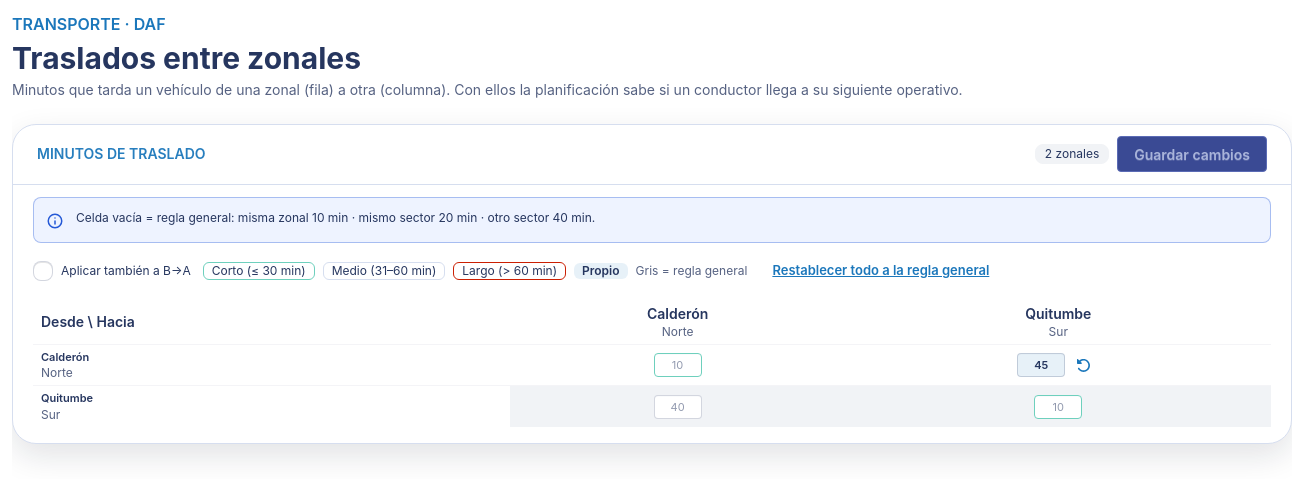
Test: Traslados entre zonales › «Aplicar también a B→A» copia el valor en la celda simétrica (2026-10-06)
The image size is (1292, 479).
Expected: the text "misma zonal 10 min" is shown, [76,210,595,225]
Click the checkbox labelled "Aplicar también a B→A". click: x=43, y=271
box: [33,261,53,281]
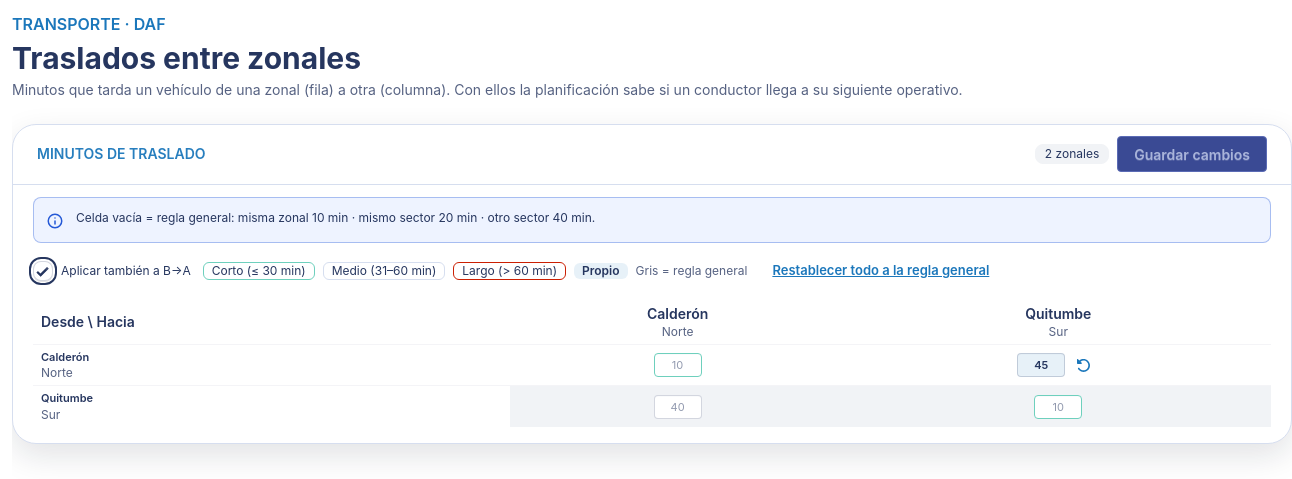
Clear the field named "Minutos de Calderón a Quitumbe". click: x=1041, y=365
box: [1017,353,1065,377]
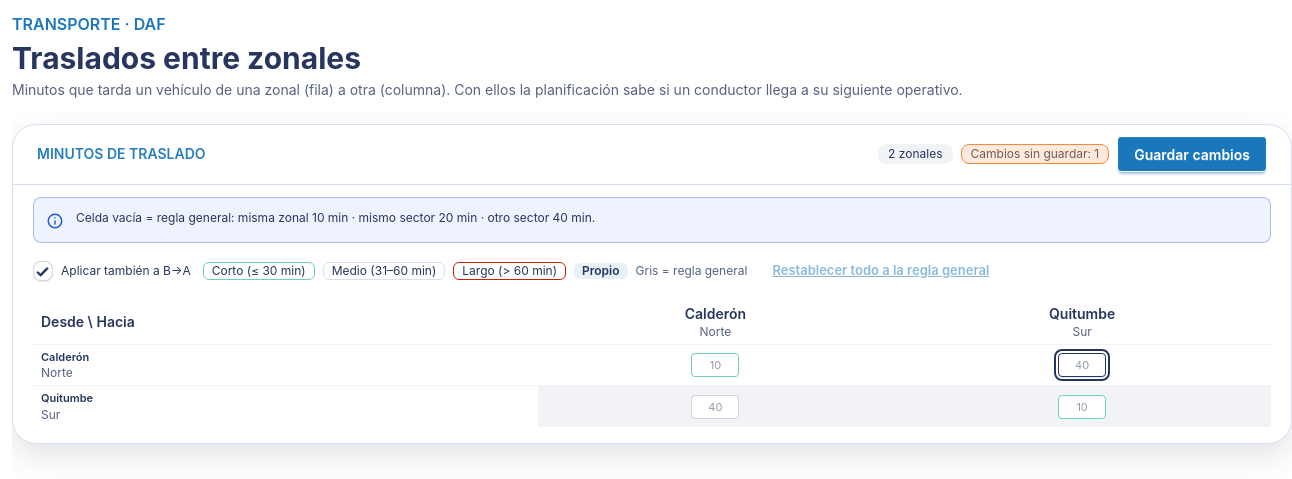
Type "35" into the 1st field with placeholder "40". click: x=1082, y=365
box: [1058,353,1106,377]
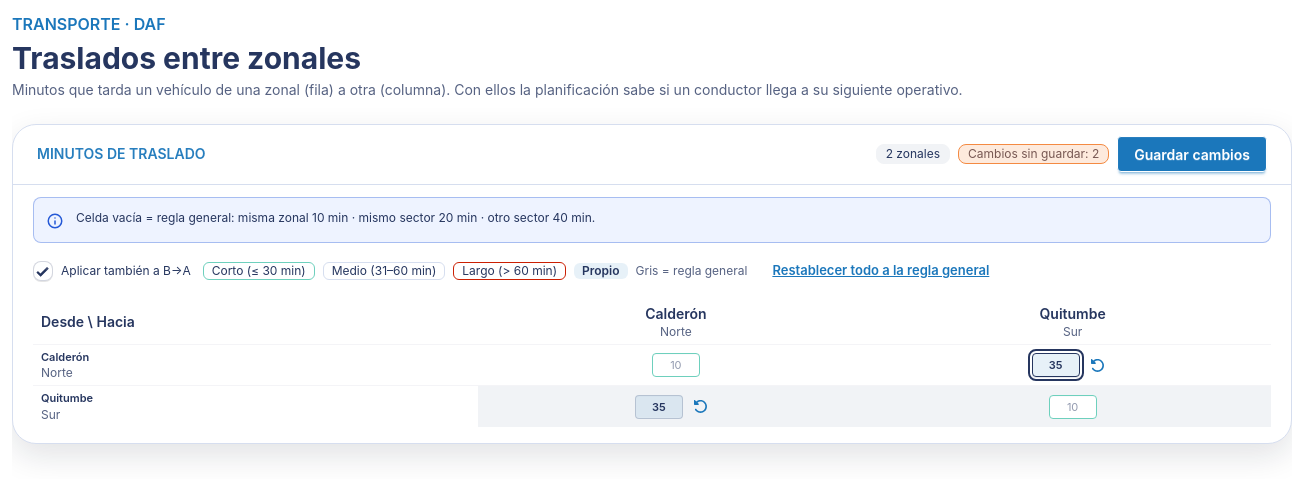
Now the text "Cambios sin guardar: 2" is shown, box [958,144,1109,164]
